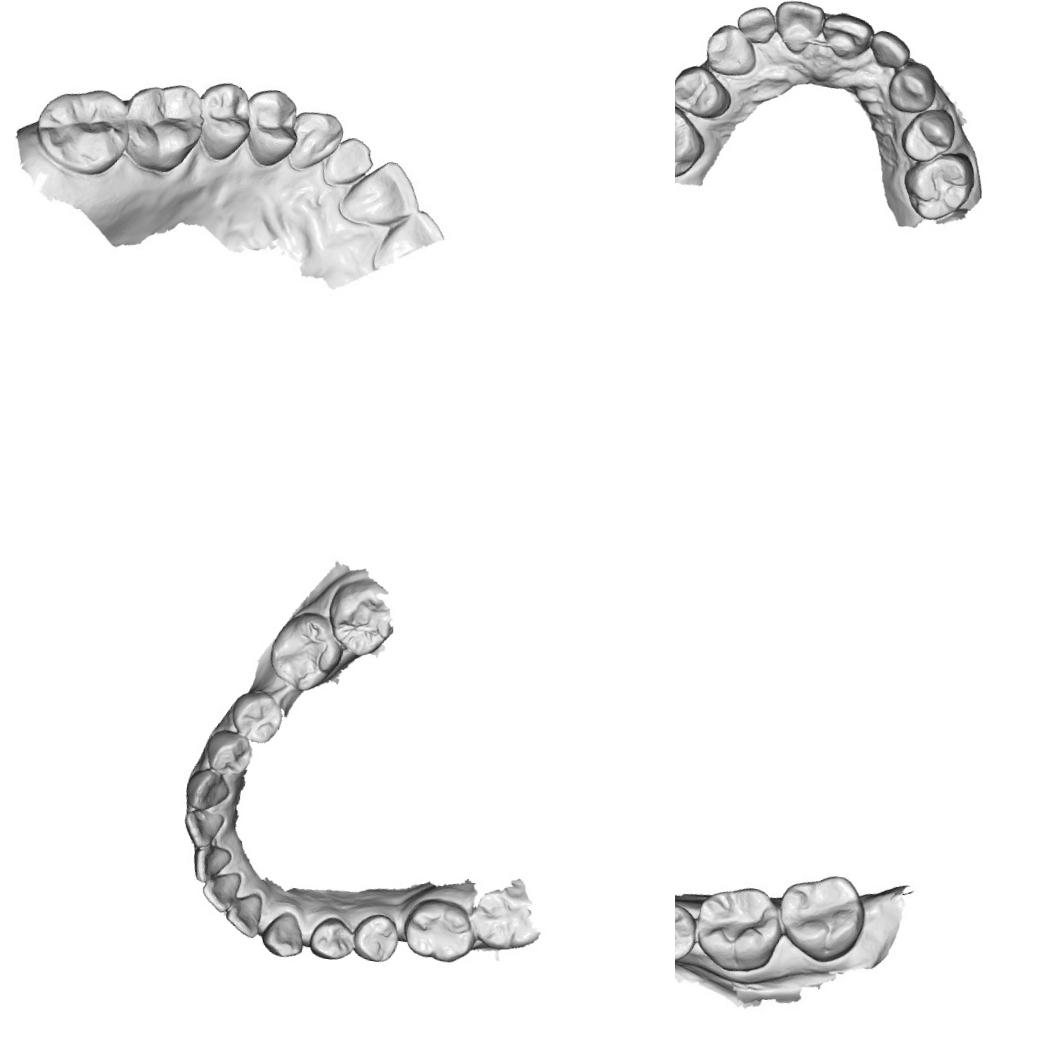canine: (700, 19, 763, 80), (290, 108, 342, 178), (883, 60, 942, 118), (257, 906, 309, 962), (181, 766, 234, 814)
incisor: (340, 154, 418, 230), (767, 0, 827, 58), (817, 8, 876, 64), (322, 136, 374, 198), (221, 887, 267, 940), (864, 26, 916, 72), (178, 805, 227, 852), (198, 866, 244, 916), (732, 2, 778, 48), (188, 842, 234, 888)
molar: (115, 71, 211, 183), (29, 80, 134, 182), (690, 880, 786, 977), (774, 865, 868, 958), (264, 606, 350, 698), (320, 573, 399, 664), (896, 144, 979, 227), (397, 892, 480, 968), (468, 886, 542, 955), (675, 97, 711, 184)
premolar: (188, 73, 260, 167), (242, 86, 300, 168), (897, 102, 959, 169), (675, 60, 737, 123), (226, 686, 287, 747), (198, 725, 256, 779), (349, 909, 403, 966), (305, 912, 359, 965), (675, 897, 701, 967)
